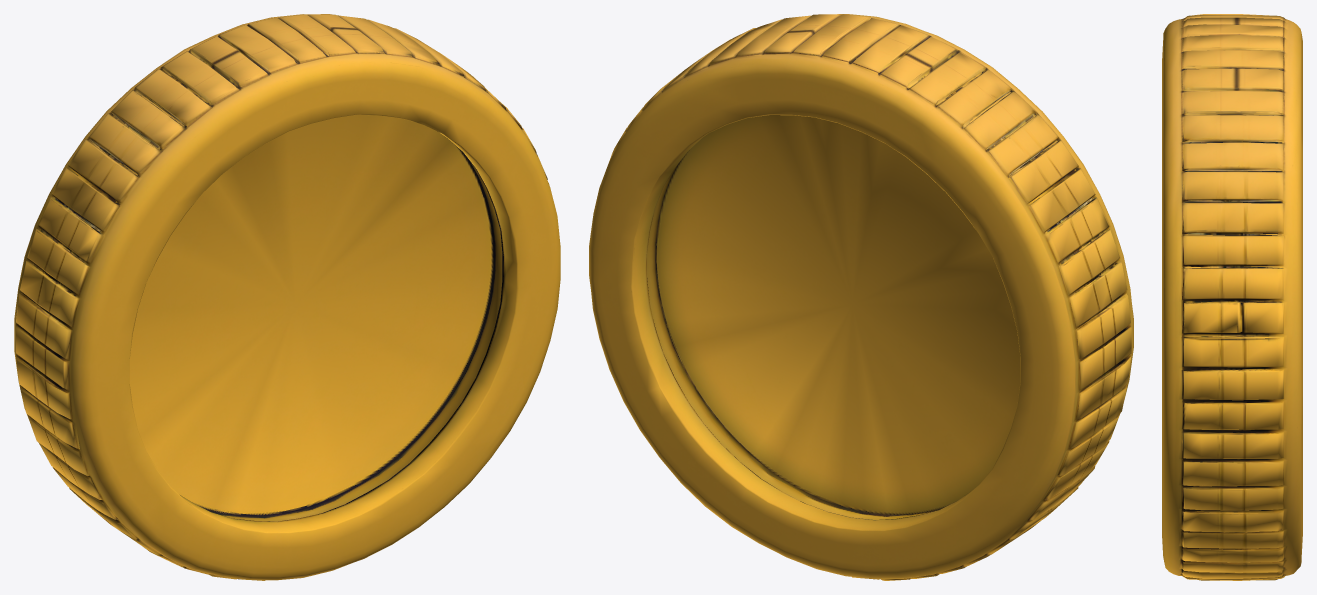
The model's file is gold-ld.glb.
3 views of the same model, side by side, from view 1: azimuth 30°, elevation 25°; view 2: azimuth 150°, elevation 25°; view 3: azimuth 270°, elevation 25° (orthographic).
Bounding box in the file's own units: 1.9 × 1.91 × 0.4736.
Materials: 1 (1 with a texture image).
